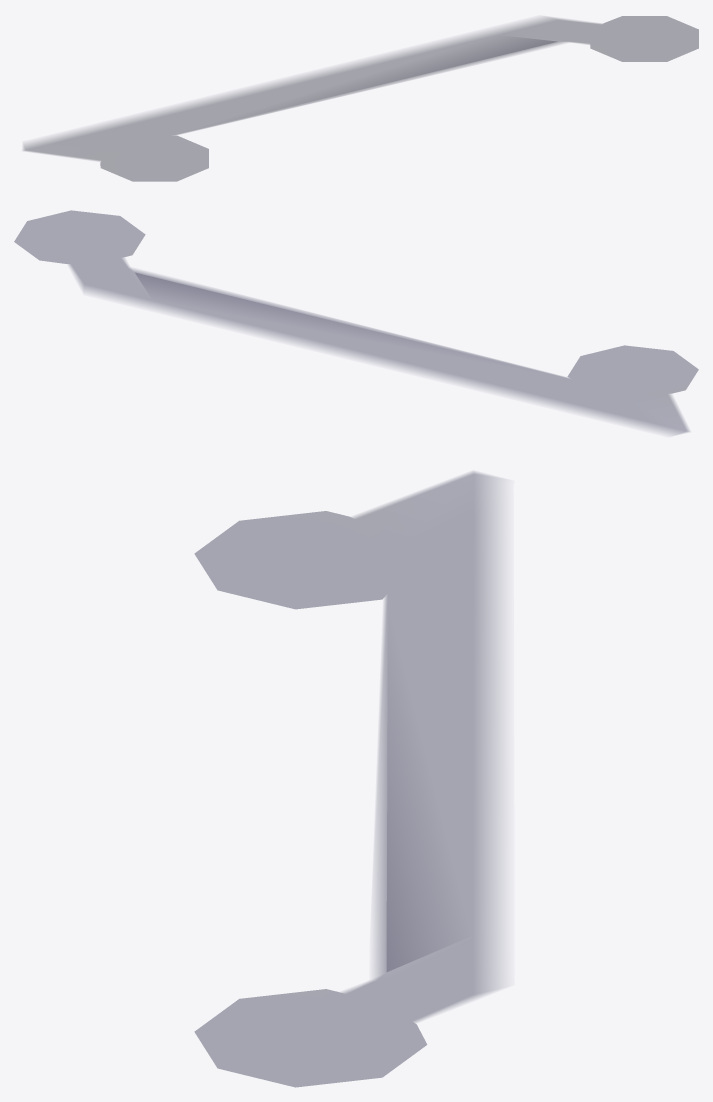
3 renders of one model, top to bottom at view 1: azimuth 30°, elevation 25°; view 2: azimuth 150°, elevation 25°; view 3: azimuth 270°, elevation 25°, orthographic. The views are drawn at different scales.
Parts seen in each view (by area): view 1: Joint_0_Object_0, Joint_0_Object_1; view 2: Joint_0_Object_0, Joint_0_Object_1; view 3: Joint_0_Object_0, Joint_0_Object_1.
Boxes of the visible parts, x1=… form: Joint_0_Object_0: x1=53, y1=16, x2=698, y2=181; Joint_0_Object_1: x1=23, y1=139, x2=130, y2=167; Joint_0_Object_0: x1=14, y1=210, x2=698, y2=427; Joint_0_Object_1: x1=619, y1=385, x2=689, y2=434; Joint_0_Object_0: x1=195, y1=504, x2=499, y2=1087; Joint_0_Object_1: x1=326, y1=472, x2=499, y2=554.
Size of the model in its own units: 1695 by 0 by 376.
Materials: 1 (1 with a texture image).
